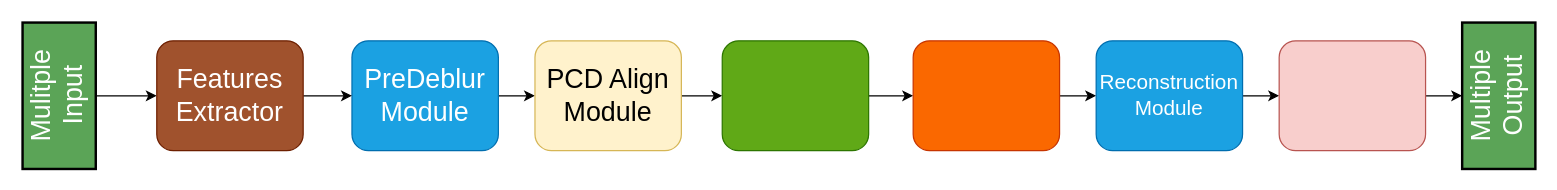
The diagram is 1557 pixels wide and 190 high, and some of its shapes have lost their labels. The centre of each missing label's shape, as x and y in pixels:
"Aligned Features" belongs at point (795, 95).
"TSA Fusion Module" belongs at point (986, 95).
"Upsampling" belongs at point (1352, 95).
